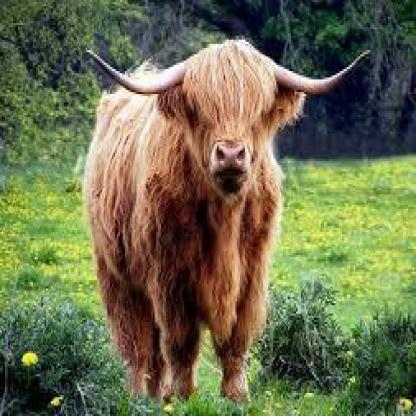cow: (81, 41, 372, 408)
